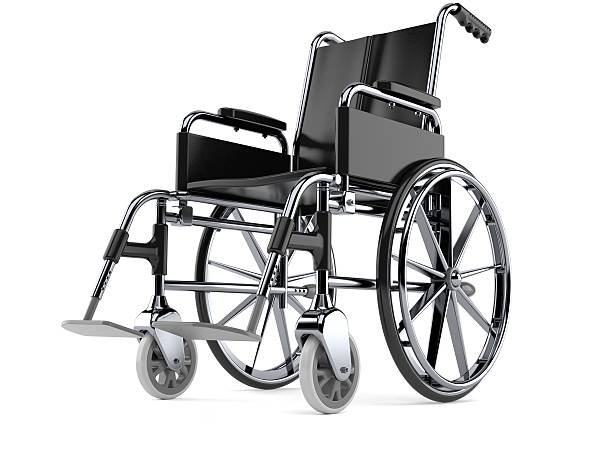wheel_chair: (52, 4, 570, 423)
